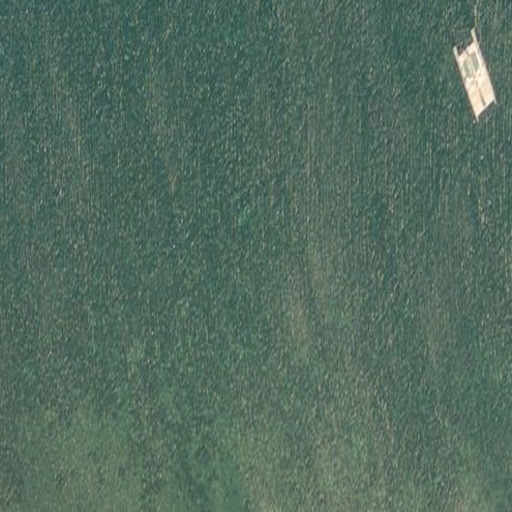ship: (453, 27, 498, 126)
